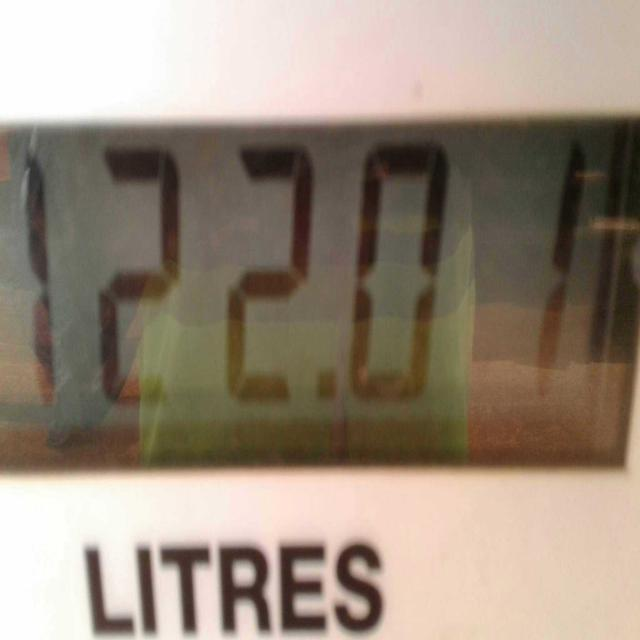.: (317, 372, 336, 404)
1: (22, 153, 65, 419)
2: (226, 154, 310, 406), (95, 149, 178, 401)
